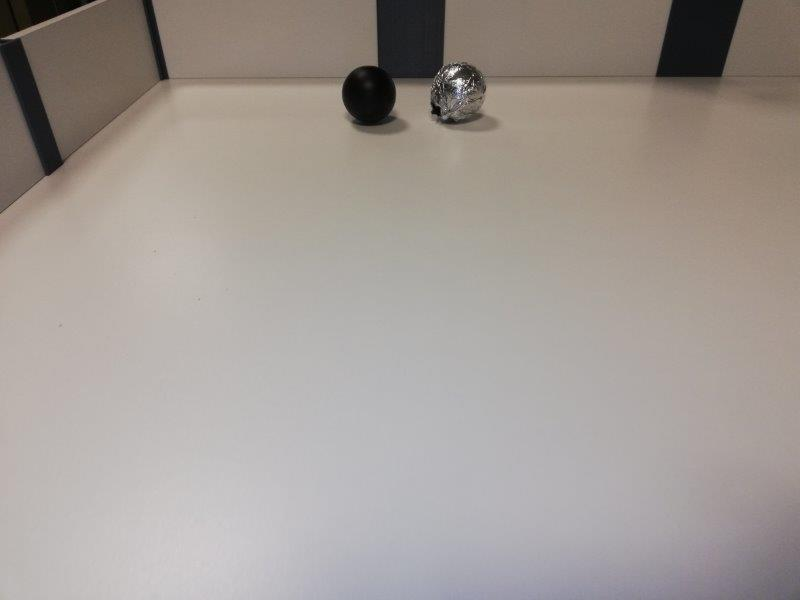bianca: (428, 61, 488, 121)
nera: (340, 64, 396, 122)
